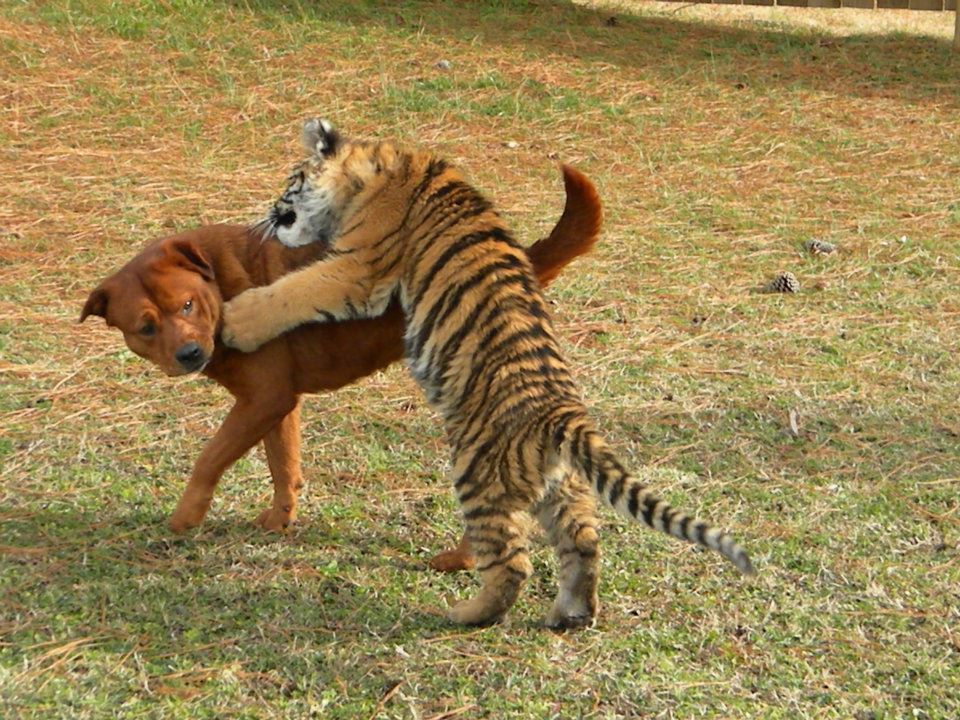dog: (72, 194, 553, 532)
tiger: (256, 123, 606, 628)
